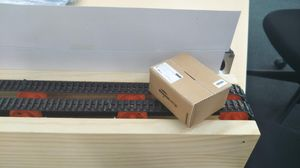box1: (146, 51, 230, 128)
